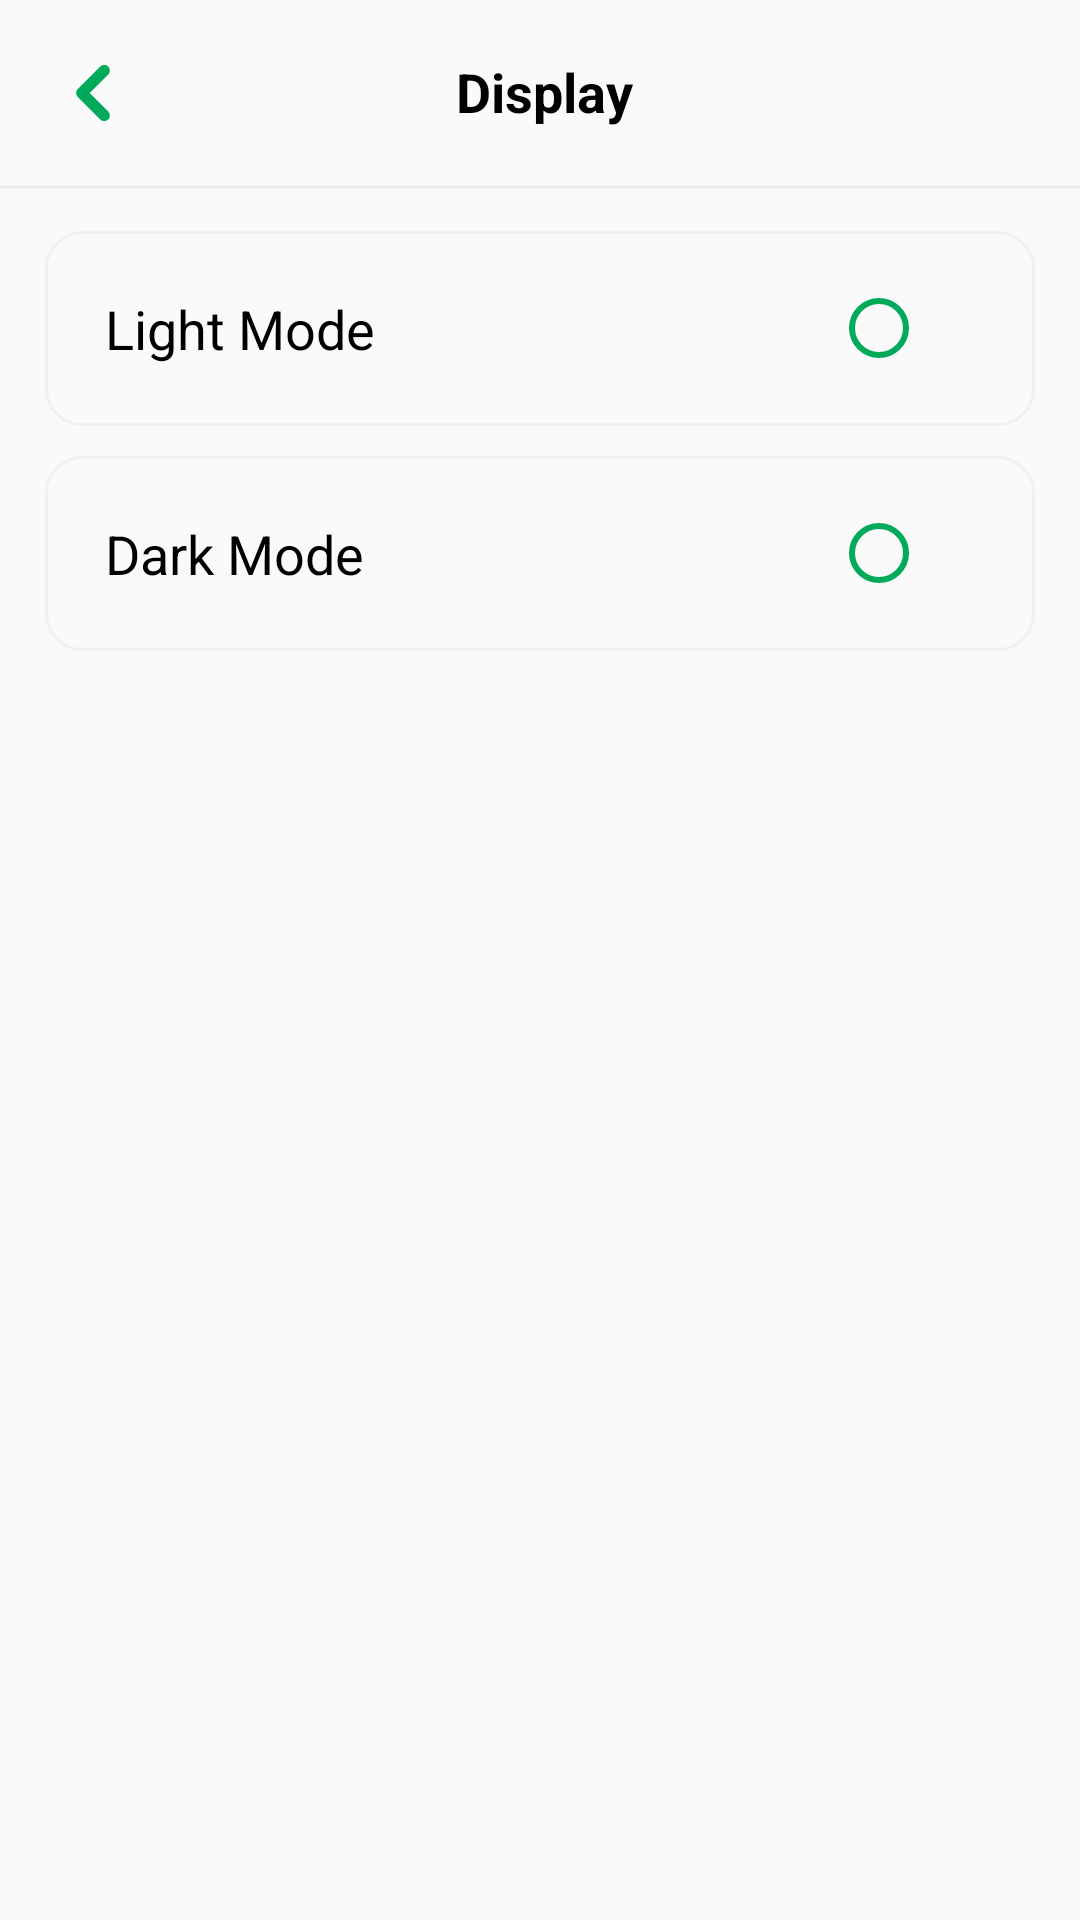

Icons on this 1080 x 1920 Android screen, each with the point to tap as point (x, y):
Back: point (93, 92)
